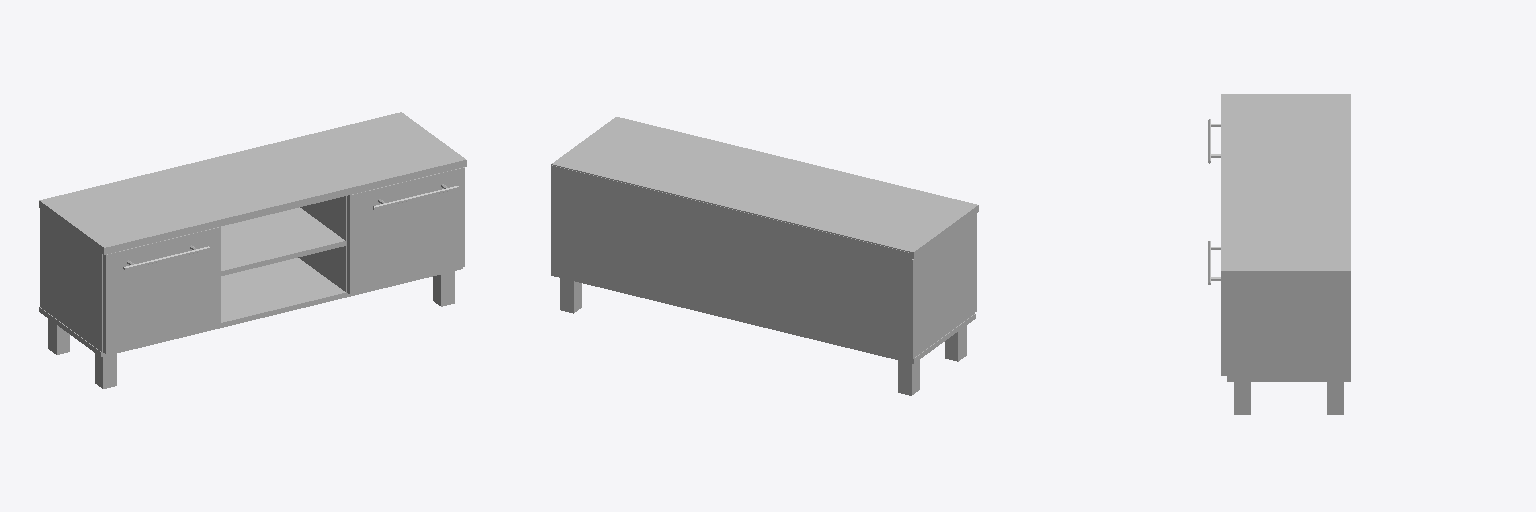
Rendered from portaTV_salotto.obj.
The picture shows the model from 3 angles: view 1: azimuth 30°, elevation 25°; view 2: azimuth 150°, elevation 25°; view 3: azimuth 270°, elevation 25°; orthographic projection.
Visible parts, largest first — view 1: Tv_Unit_Cube.007, Leftdoor_Cube.011, Right_door_Cube.010; view 2: Tv_Unit_Cube.007; view 3: Tv_Unit_Cube.007, Right_door_Cube.010.
Boxes of the visible parts, x1,y1,x2,y2 form: Tv_Unit_Cube.007: [39, 112, 466, 388]; Leftdoor_Cube.011: [103, 227, 220, 353]; Right_door_Cube.010: [347, 167, 464, 293]; Tv_Unit_Cube.007: [551, 117, 978, 395]; Tv_Unit_Cube.007: [1221, 94, 1350, 414]; Right_door_Cube.010: [1208, 241, 1226, 375].
Bounding box in the file's own units: 135 × 52.55 × 46.51.